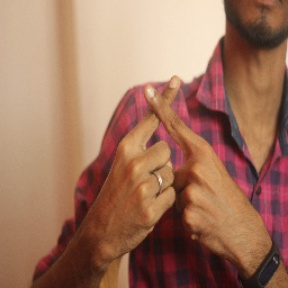X: (107, 63, 222, 184)
